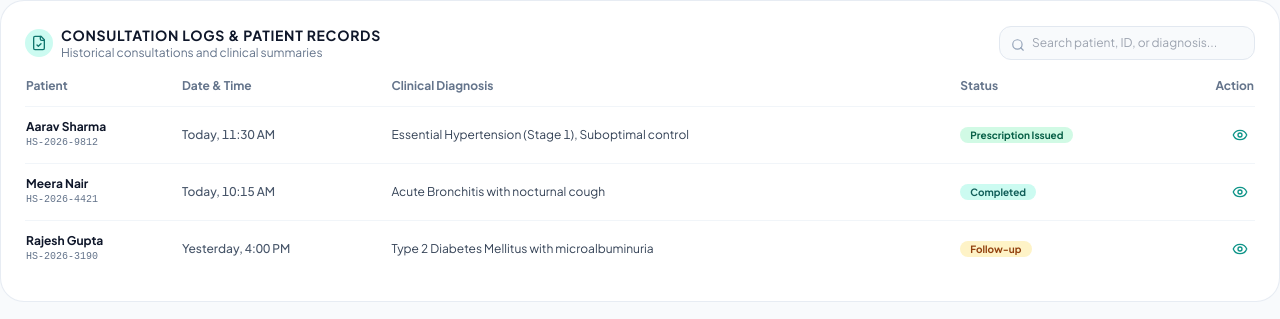
Test case: F25 — Doctor Portal UI Suite › 7. ConsultationList renders filterable consultations table and handles search
Check: the text "Aarav Sharma" is shown, box x1=26 y1=119 x2=106 y2=134
Check: the text "Meera Nair" is shown, box x1=26 y1=176 x2=88 y2=191
In the field with placeholder "Search patient, ID, or diagnosis...": (1127, 43) x1=999 y1=26 x2=1255 y2=60, type "Meera"
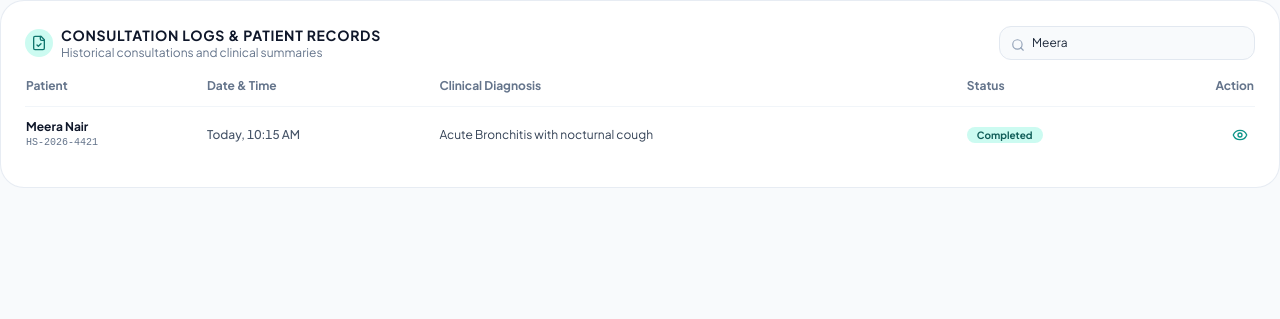
Check: the text "Meera Nair" is shown, box x1=26 y1=119 x2=88 y2=134
Check: the text "Aarav Sharma" is gone
